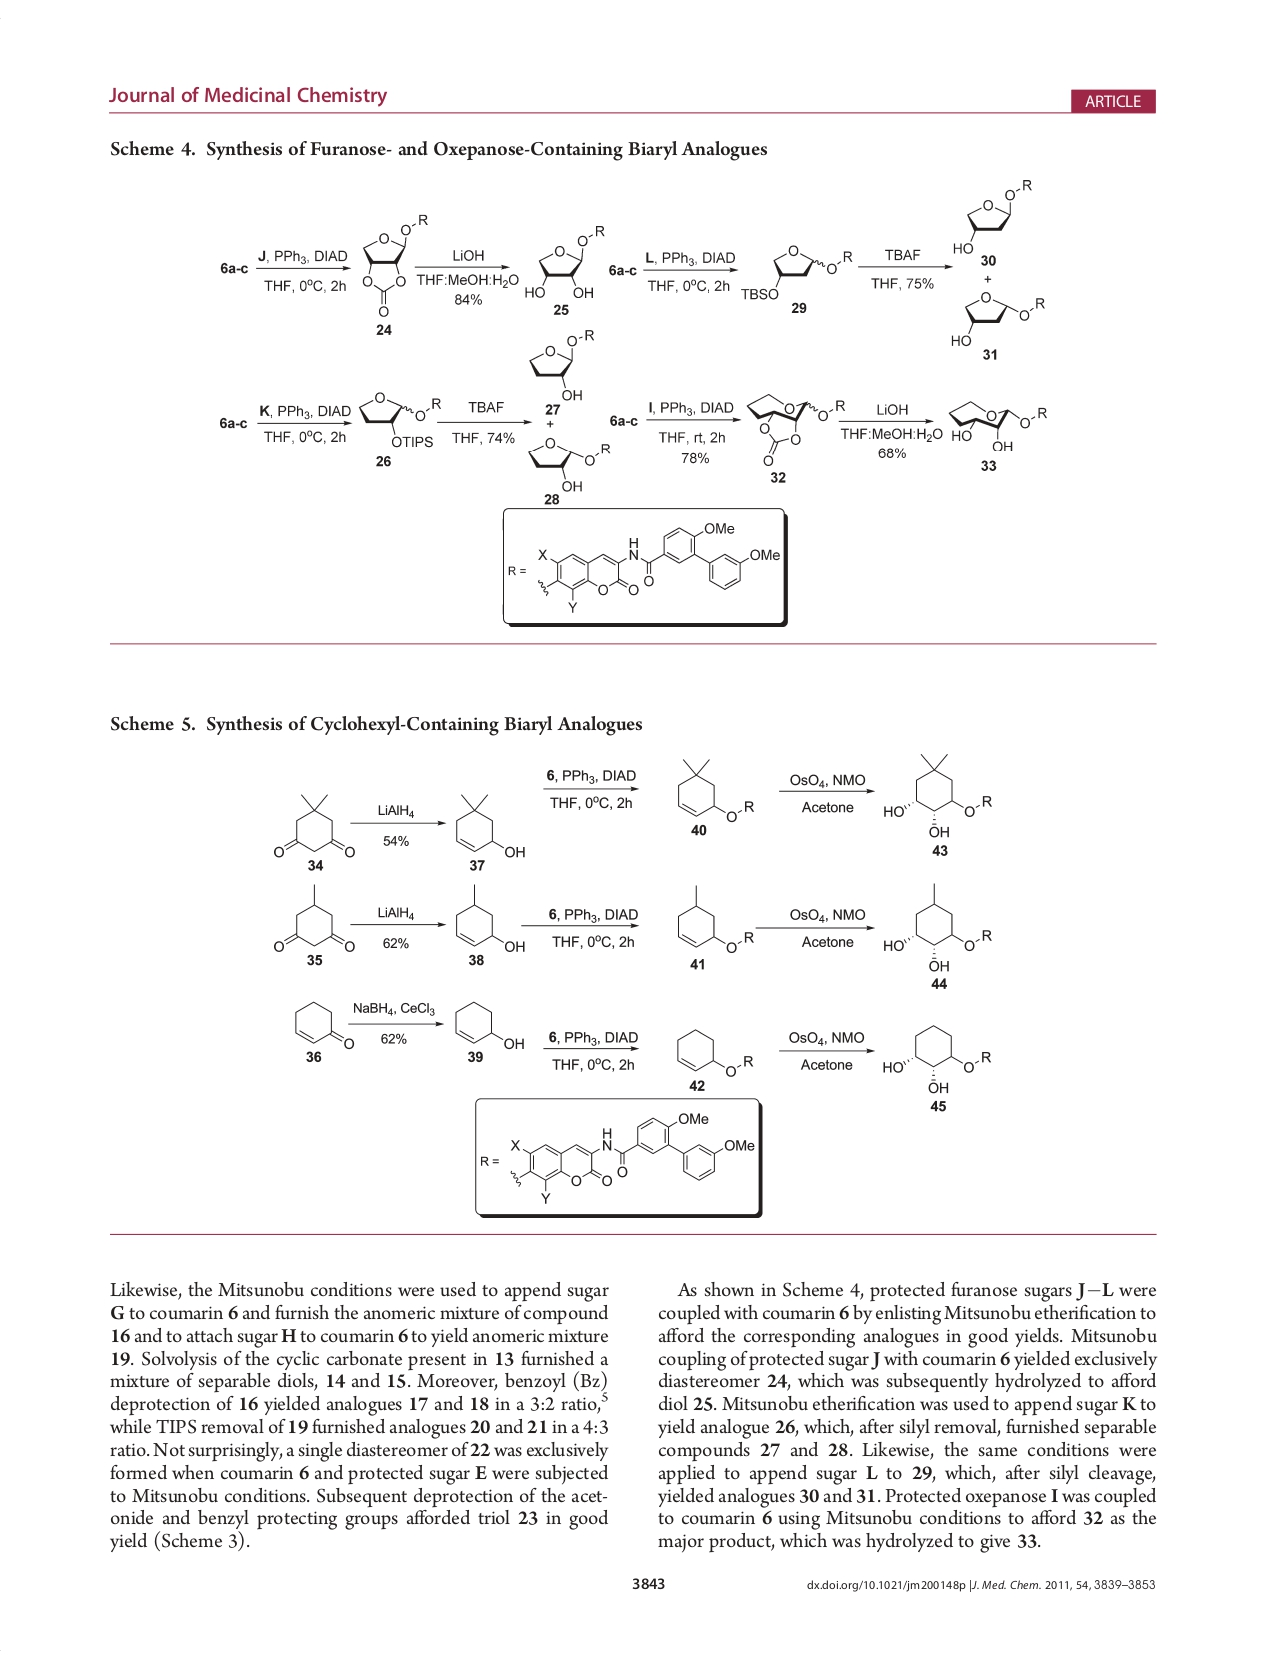exist_molecular: (532, 520, 781, 614), (505, 1110, 755, 1204), (880, 747, 993, 838), (880, 884, 995, 973), (745, 387, 848, 469), (882, 1021, 992, 1097), (359, 211, 430, 321), (739, 243, 856, 305), (951, 172, 1036, 255), (269, 879, 360, 954), (668, 880, 755, 956), (523, 223, 608, 301), (669, 750, 755, 823), (943, 398, 1051, 455), (946, 289, 1049, 347), (270, 789, 356, 858), (451, 880, 529, 955), (355, 390, 445, 453), (448, 790, 527, 860), (525, 436, 614, 497), (527, 324, 594, 403), (449, 995, 529, 1051), (670, 1025, 754, 1077), (287, 993, 356, 1049)
